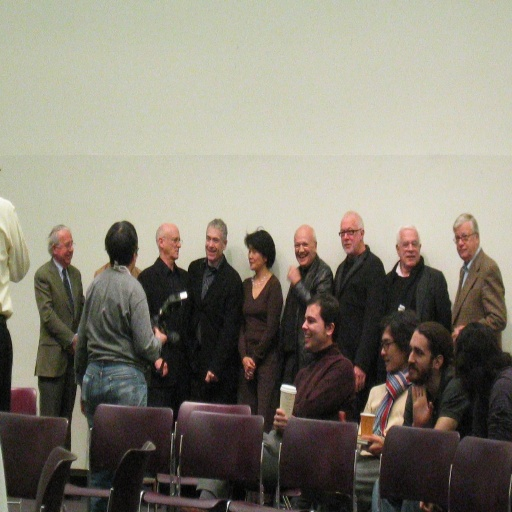hand: (411, 381, 435, 427), (270, 406, 295, 433), (360, 432, 384, 455), (285, 262, 302, 286), (241, 355, 256, 380), (354, 364, 367, 392), (151, 324, 168, 345), (451, 324, 467, 345), (154, 357, 168, 376), (204, 372, 217, 384), (72, 334, 77, 353), (243, 375, 253, 381)
